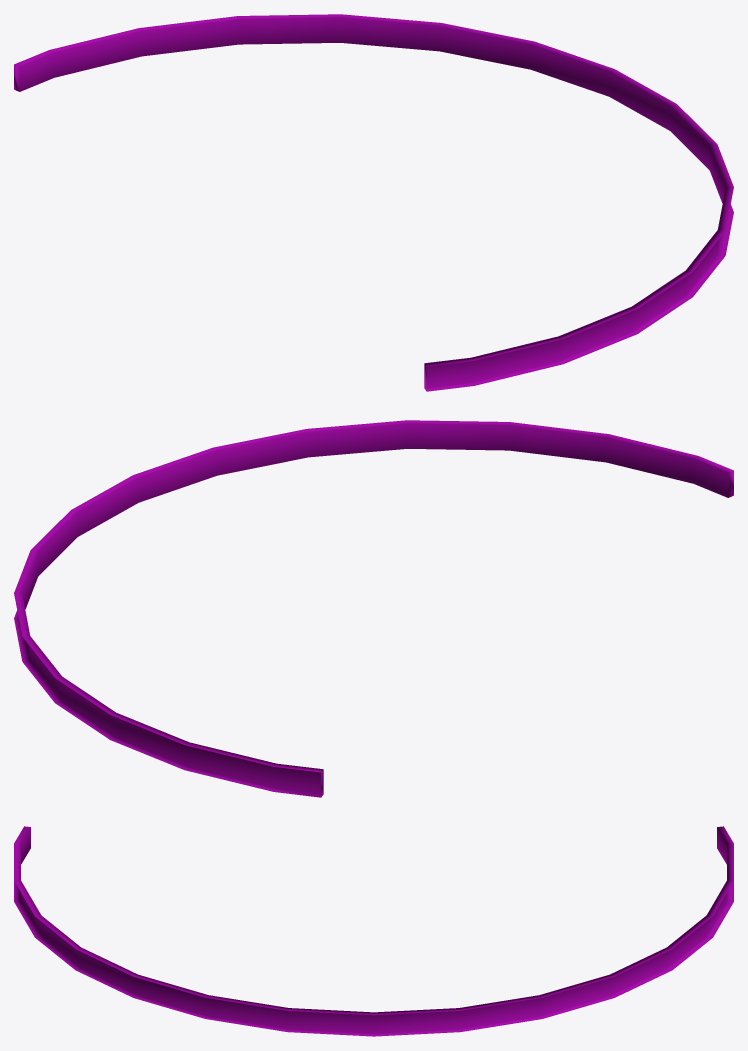
File: ui_BAL_SYNC.fbx
The picture shows the model from 3 angles, top to bottom: view 1: azimuth 30°, elevation 25°; view 2: azimuth 150°, elevation 25°; view 3: azimuth 270°, elevation 25°; orthographic projection. The views are drawn at different scales.
Visible parts, largest first — view 1: polySurface6; view 2: polySurface6; view 3: polySurface6.
Boxes of the visible parts, bbox=[...] form: polySurface6: bbox=[14, 14, 733, 391]; polySurface6: bbox=[14, 420, 733, 797]; polySurface6: bbox=[14, 826, 733, 1036].
Size of the model in its own units: 1.51 by 0.0793 by 2.43.
